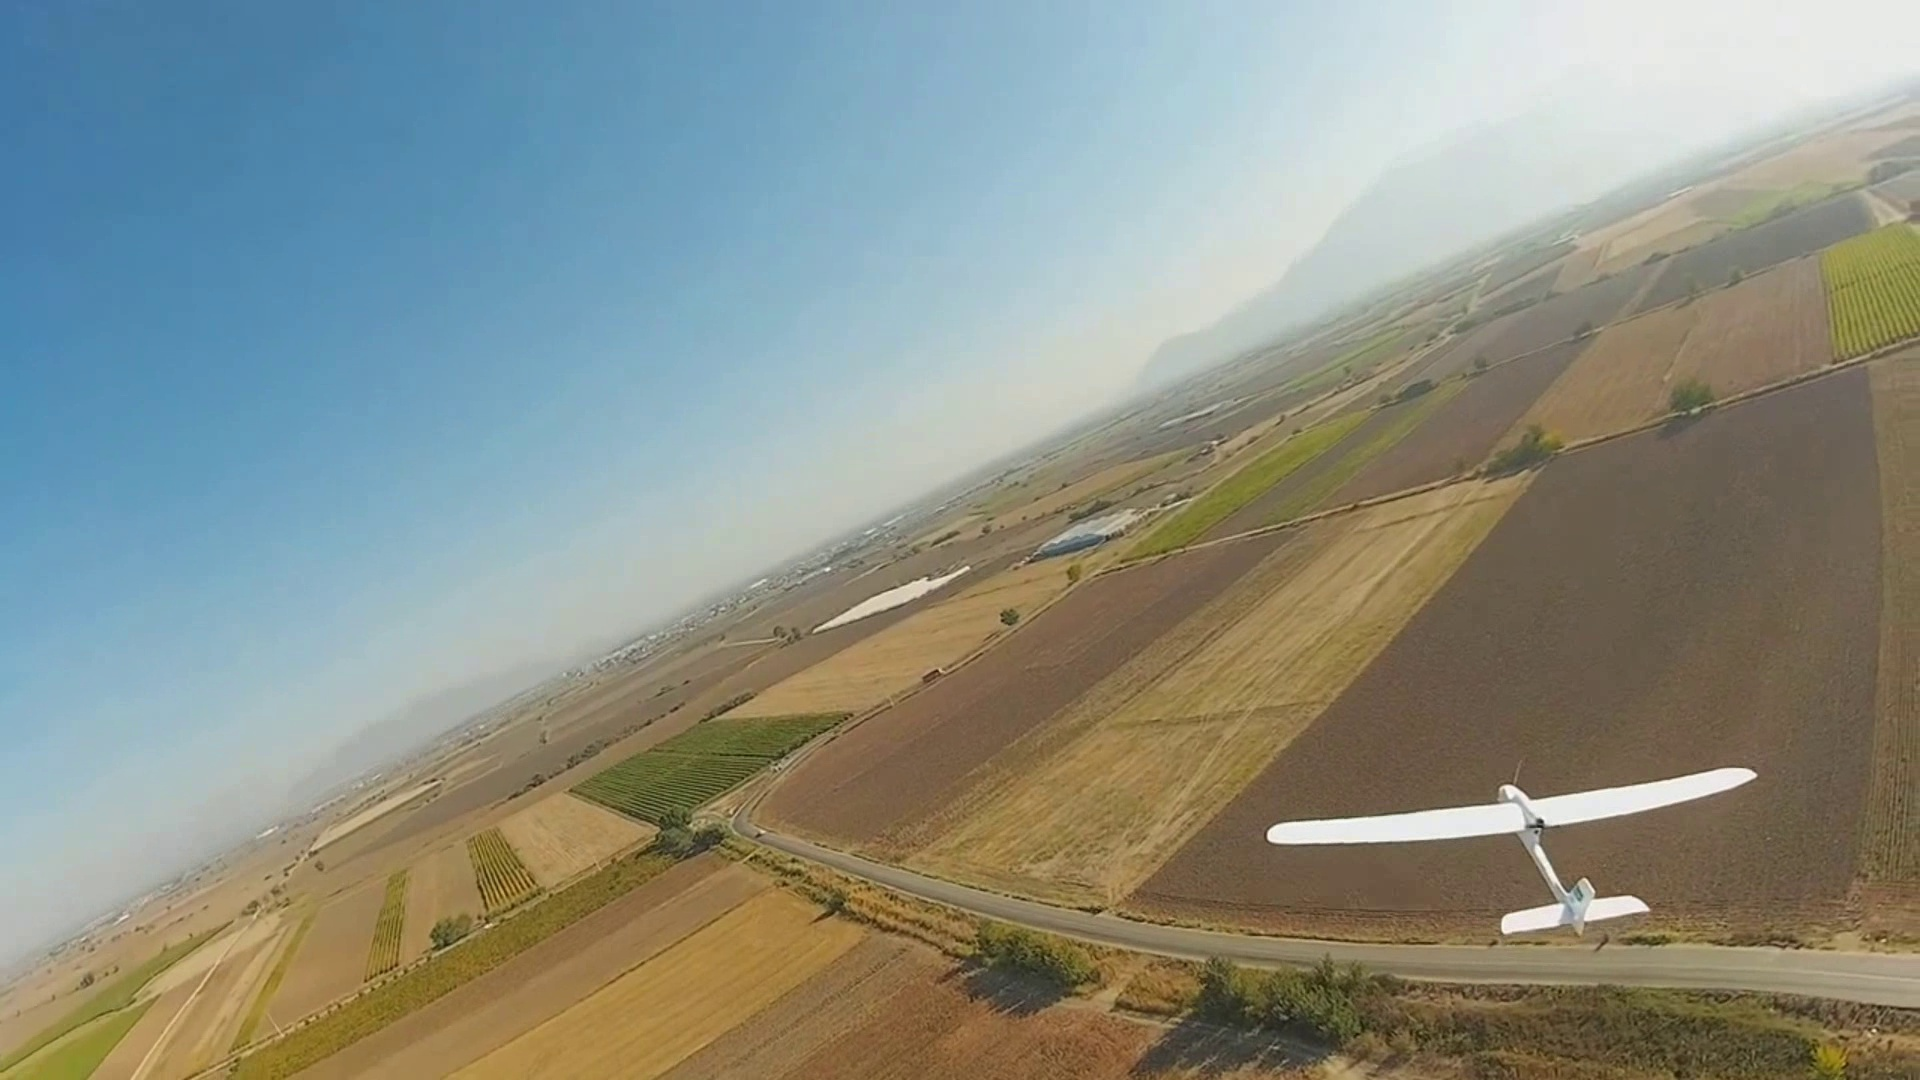airplane: (1263, 769, 1759, 937)
